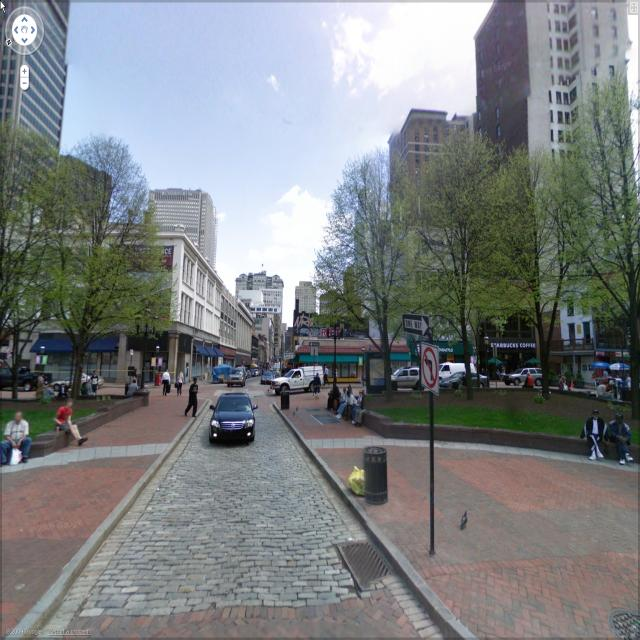b_1: (180, 250, 220, 379), (244, 271, 284, 368), (154, 184, 226, 230), (234, 298, 258, 386), (217, 281, 237, 383), (294, 281, 318, 316)
b_2: (477, 22, 640, 283), (1, 208, 200, 404), (363, 212, 481, 398), (377, 303, 577, 403), (1, 3, 78, 241), (392, 99, 480, 228), (302, 311, 393, 397), (590, 270, 640, 402), (48, 154, 125, 234), (563, 271, 601, 403)
